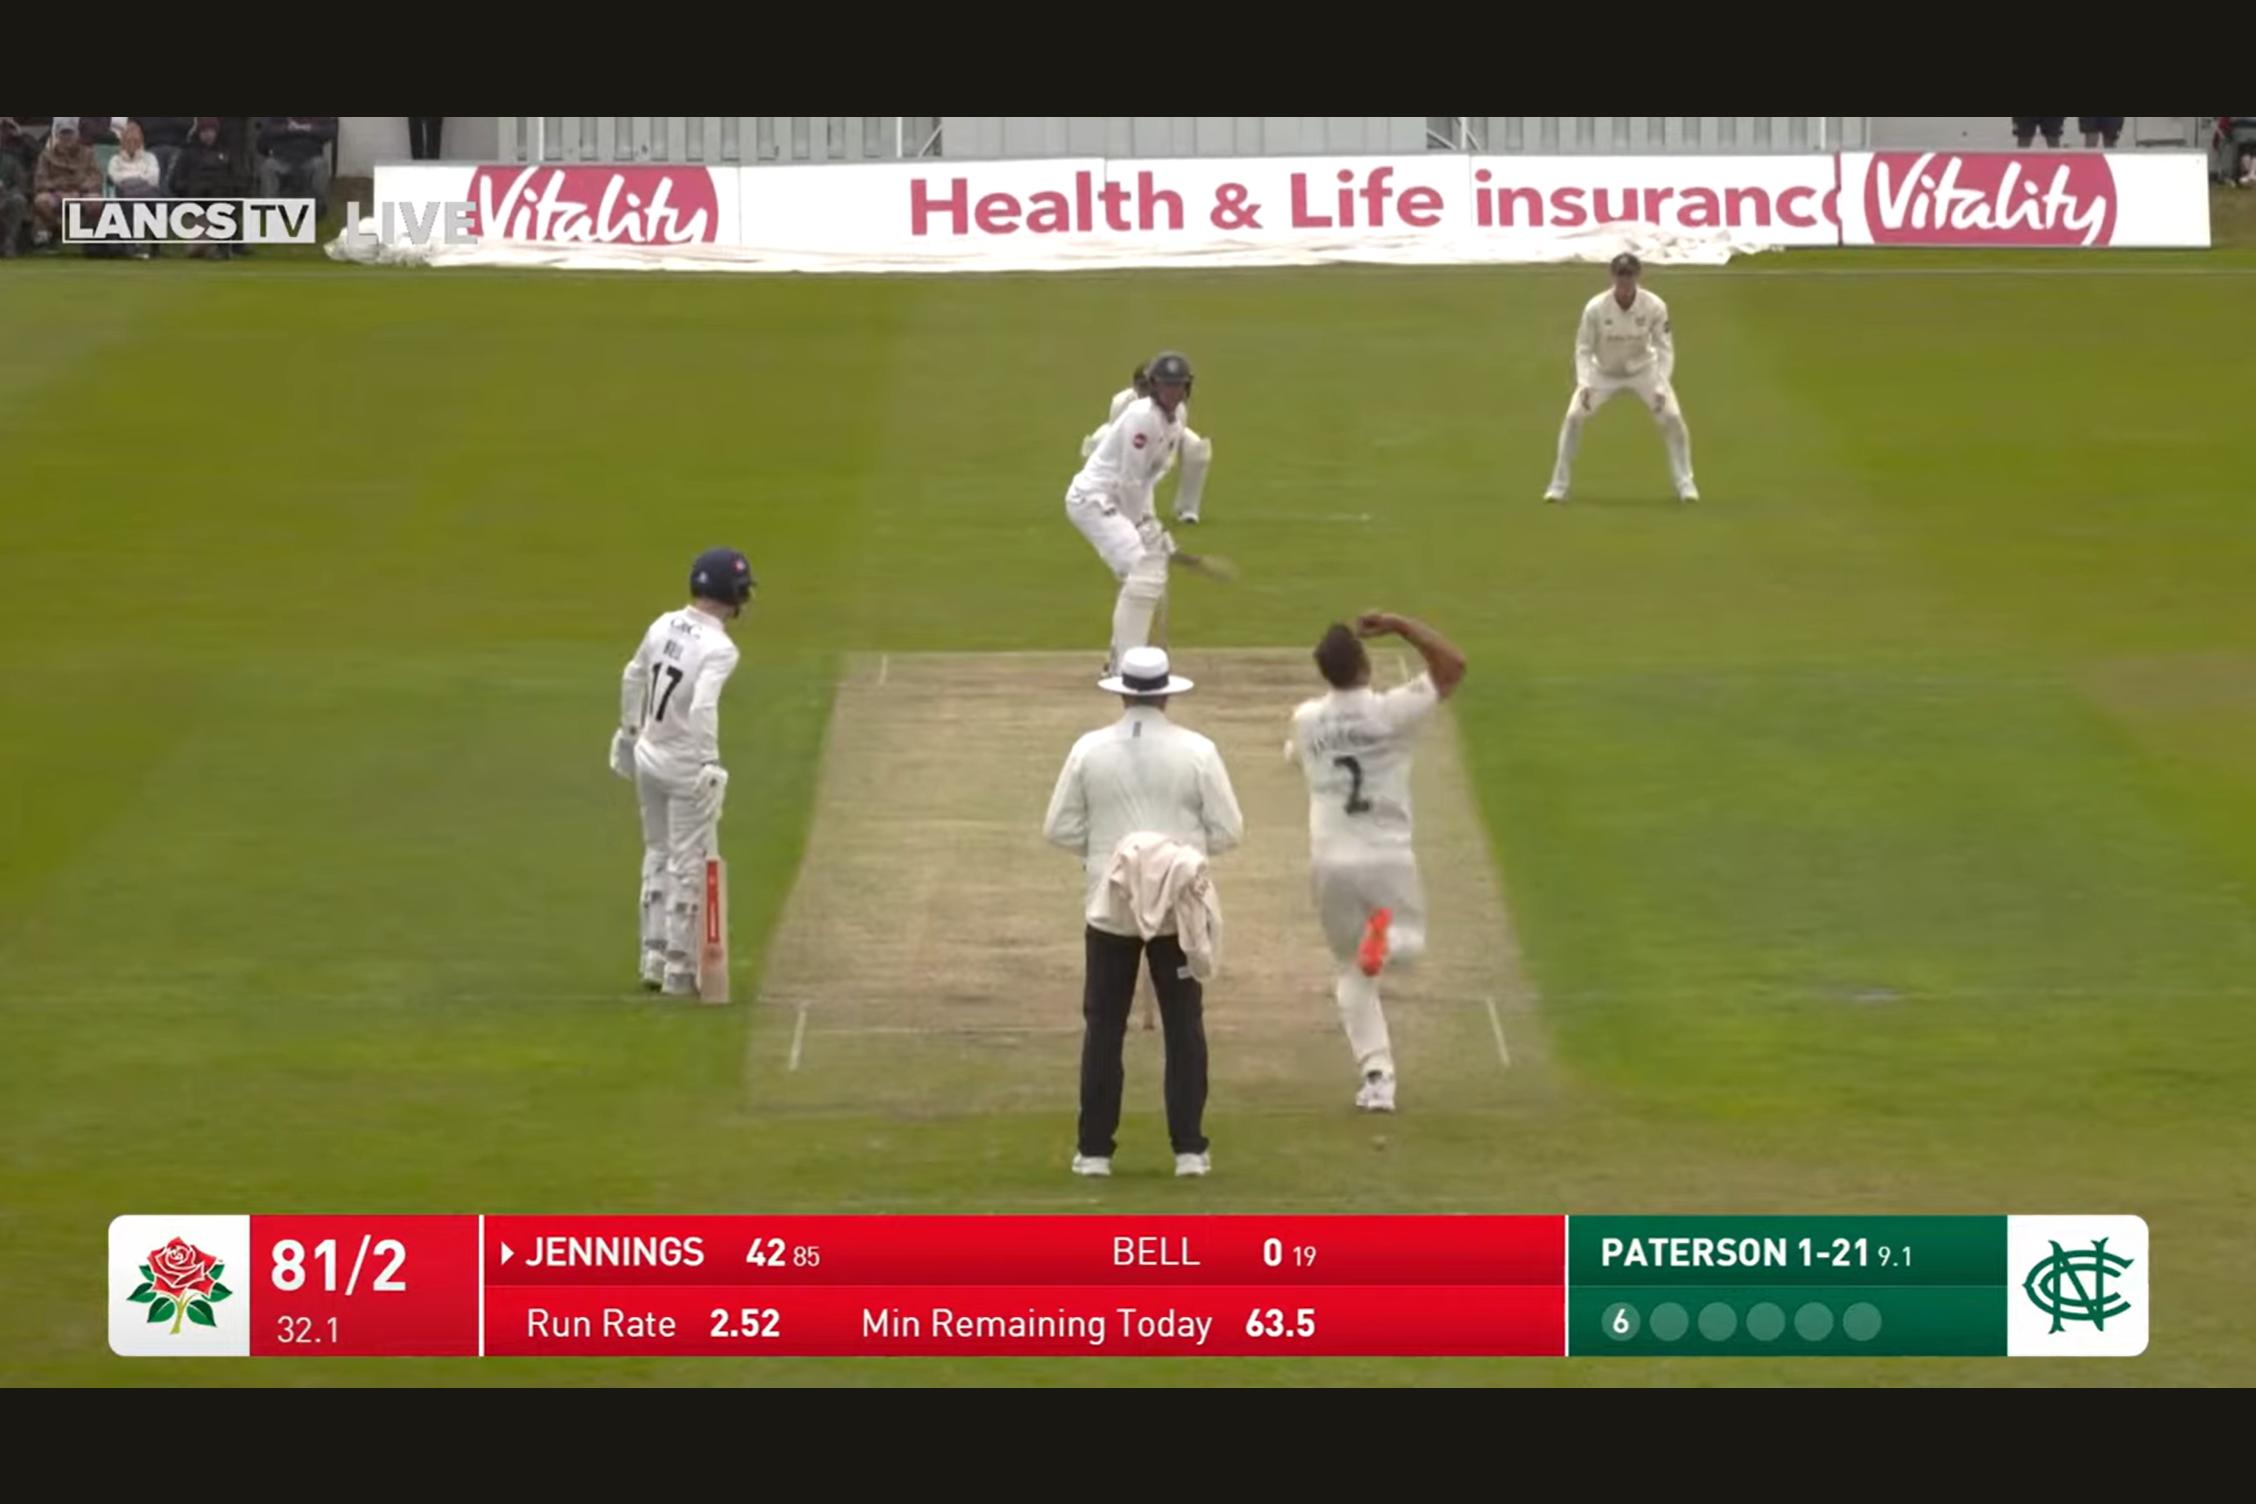bowler running in: (1299, 571, 1511, 1108)
non striker: (586, 492, 811, 1021)
umpire: (1044, 603, 1244, 1177)
